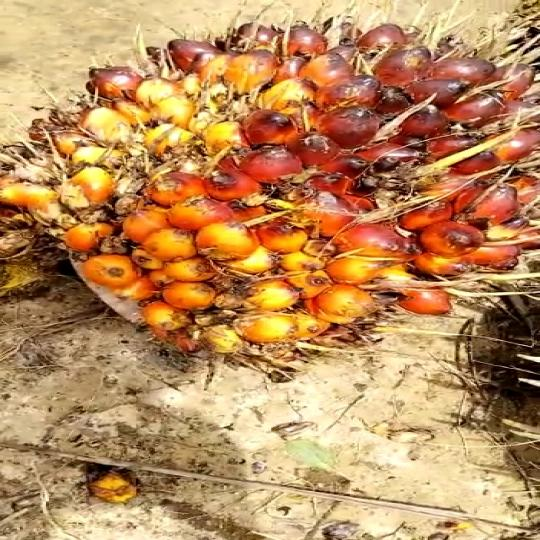masak: (0, 12, 540, 364)
